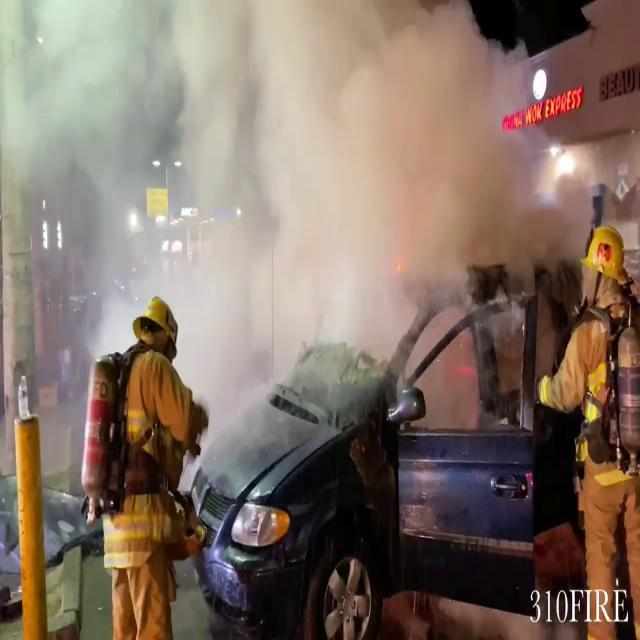Smoke: (4, 0, 586, 436)
